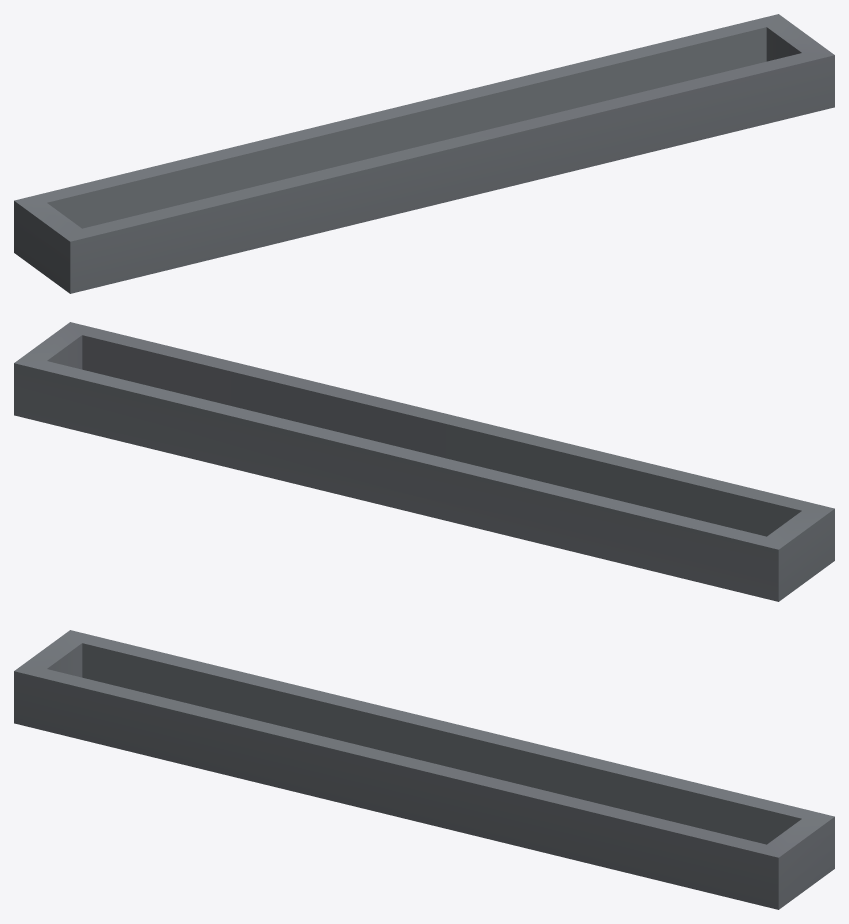
File: wooden gate ground.fbx
The picture shows the model from 3 angles, top to bottom: view 1: azimuth 30°, elevation 25°; view 2: azimuth 150°, elevation 25°; view 3: azimuth 330°, elevation 25°; orthographic projection.
Visible parts, largest first — view 1: wooden_gate_ground; view 2: wooden_gate_ground; view 3: wooden_gate_ground.
Part boxes in pixels (bbox=[...]): wooden_gate_ground: bbox=[14, 14, 834, 293]; wooden_gate_ground: bbox=[14, 322, 834, 601]; wooden_gate_ground: bbox=[14, 630, 834, 909].
Size of the model in its own units: 15.33 by 1 by 1.95.
